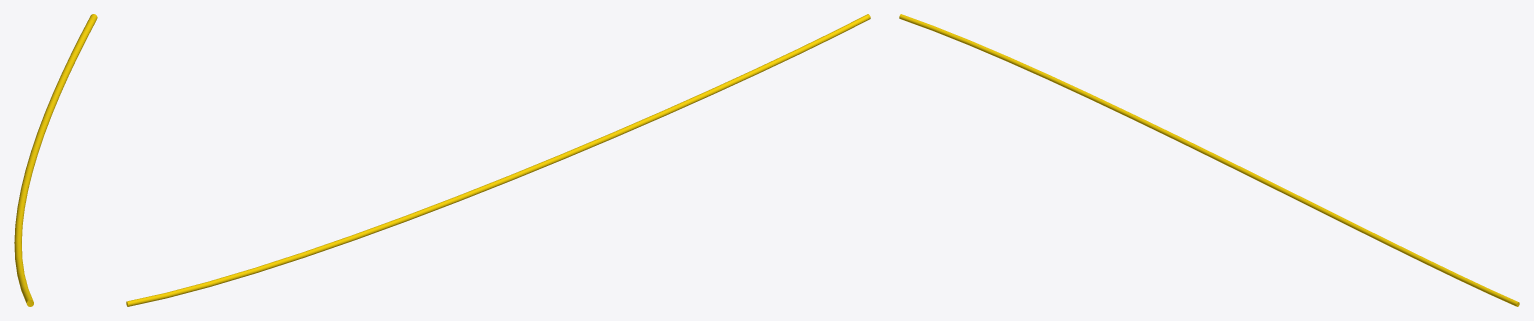
File: Event_421364160_track_65.fbx
The picture shows the model from 3 angles, left to right: view 1: azimuth 90°, elevation 25°; view 2: azimuth 210°, elevation 25°; view 3: azimuth 330°, elevation 25°; orthographic projection. The views are drawn at different scales.
Parts seen in each view (by area): view 1: Model; view 2: Model; view 3: Model.
Part boxes in pixels (x1,y1,x2,y2): Model: (14,14,97,306); Model: (126,14,870,306); Model: (899,14,1519,306).
Bounding box in the file's own units: 5.84 × 1.05 × 0.4496.
